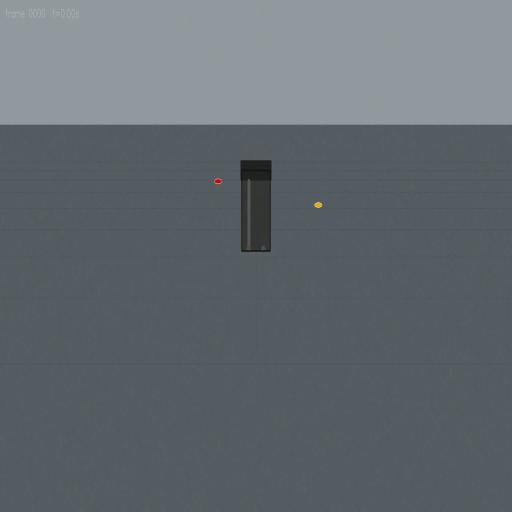bin: (240, 157, 273, 254)
